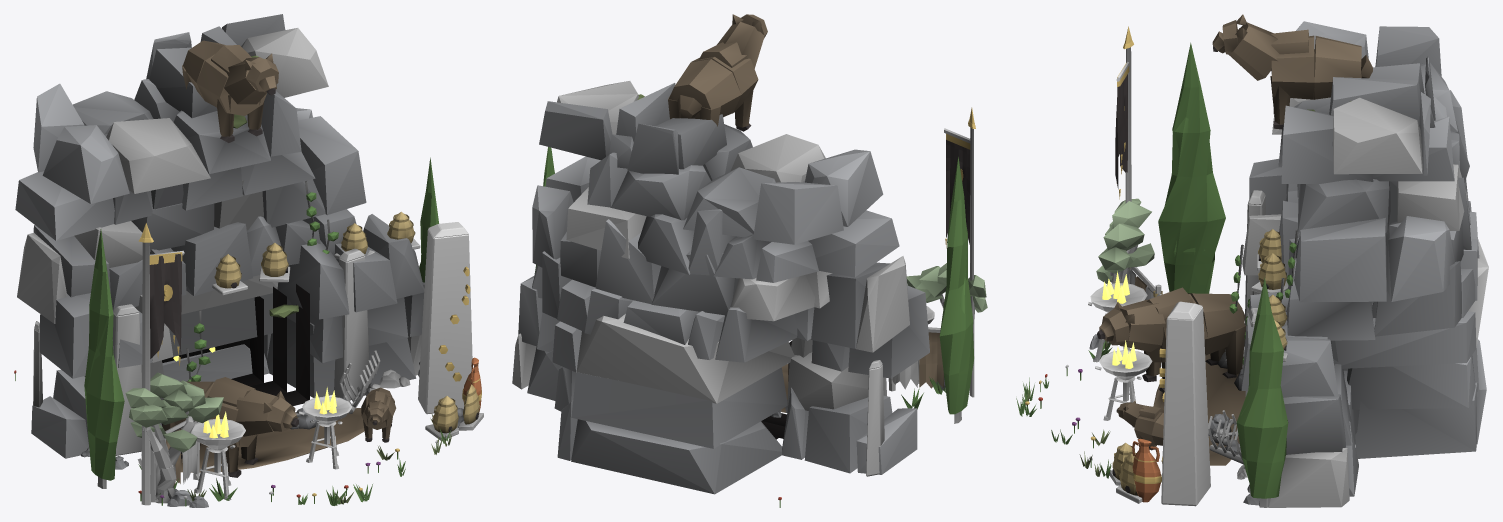
The model's file is bear-cave-l3.glb.
3 views of the same model, side by side, from view 1: azimuth 30°, elevation 25°; view 2: azimuth 150°, elevation 25°; view 3: azimuth 270°, elevation 25° (orthographic). The views are drawn at different scales.
Visible parts, largest first — view 1: bear-cave-l3; view 2: bear-cave-l3; view 3: bear-cave-l3.
Part boxes in pixels (box(x1,y1,x2,y2)): bear-cave-l3: box(14, 14, 483, 507); bear-cave-l3: box(512, 14, 987, 507); bear-cave-l3: box(1016, 14, 1488, 507).
Size of the model in its own units: 1.56 by 1.44 by 1.56.
